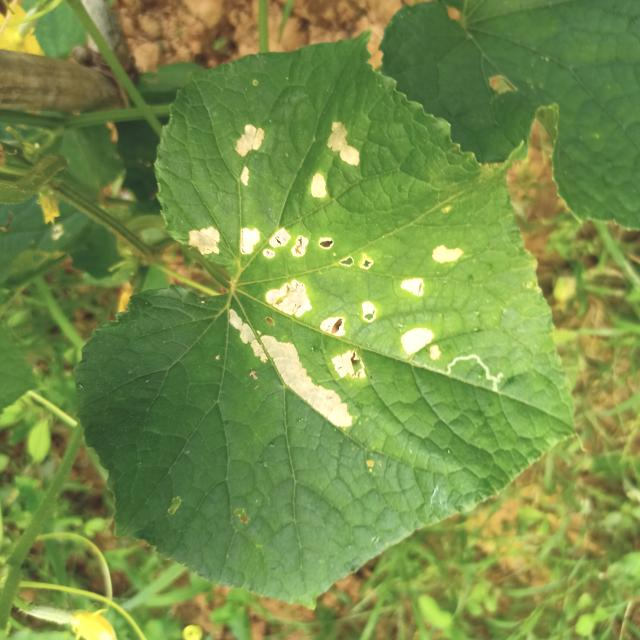disease_cucumber: (222, 273, 377, 432), (358, 234, 472, 360), (183, 214, 379, 276), (232, 111, 363, 201)
